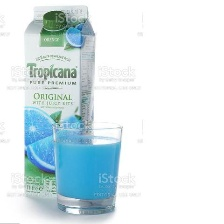carton: (21, 2, 103, 201)
glass: (46, 118, 133, 218)
